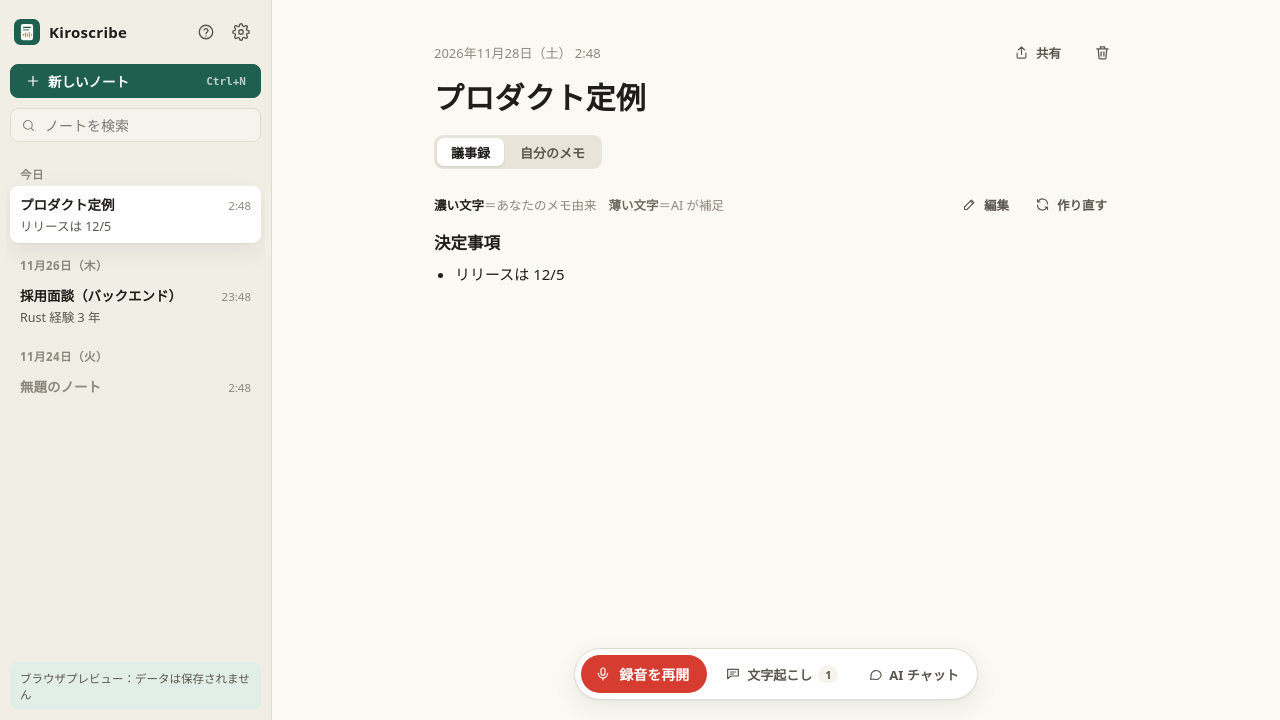
録音: 議事録のあるノートでの再開 › [REC-027][TRN-024] 「続きとして録音」を選ぶと、同じノートで区切りを付けて録音する
Expected: the field showing "プロダクト定例" is shown, [434, 74, 1118, 121]
Click the button "録音を再開": (644, 674) [581, 655, 707, 693]
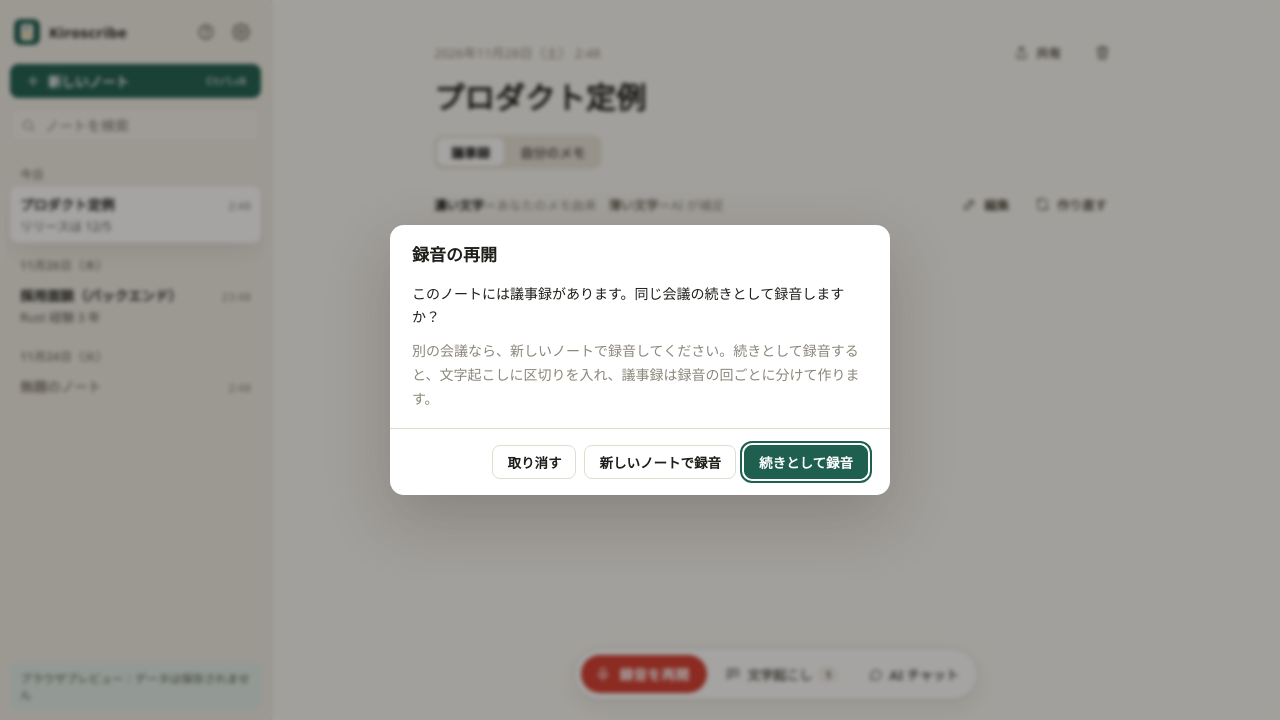
Now the dialog "録音の再開" shows "このノートには議事録があります。同じ会議の続きとして録音しますか？", box [412, 284, 844, 326]
Click the button "続きとして録音": (806, 462) [744, 446, 868, 480]
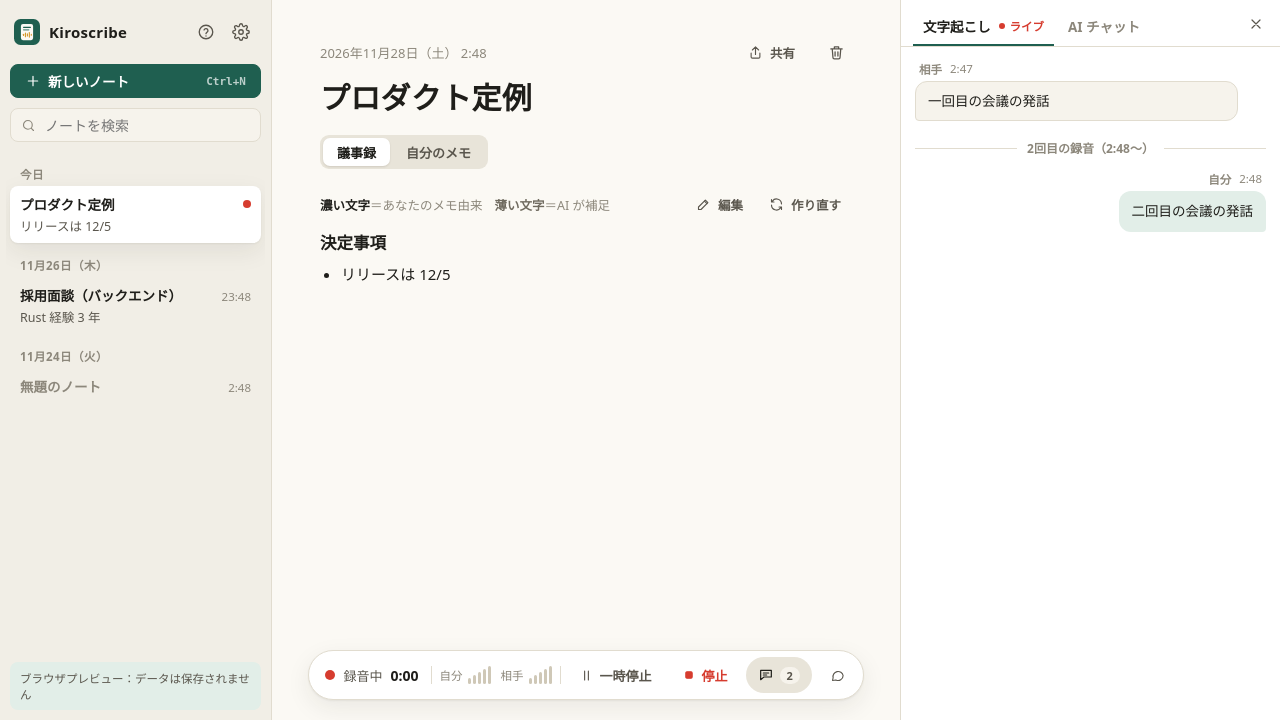
Now the dialog is gone
Now the element showing "録音中 0:00" is shown, box [342, 666, 424, 684]
Now the heading "2回目の録音（2:48〜）" is shown, box [1027, 140, 1154, 157]
